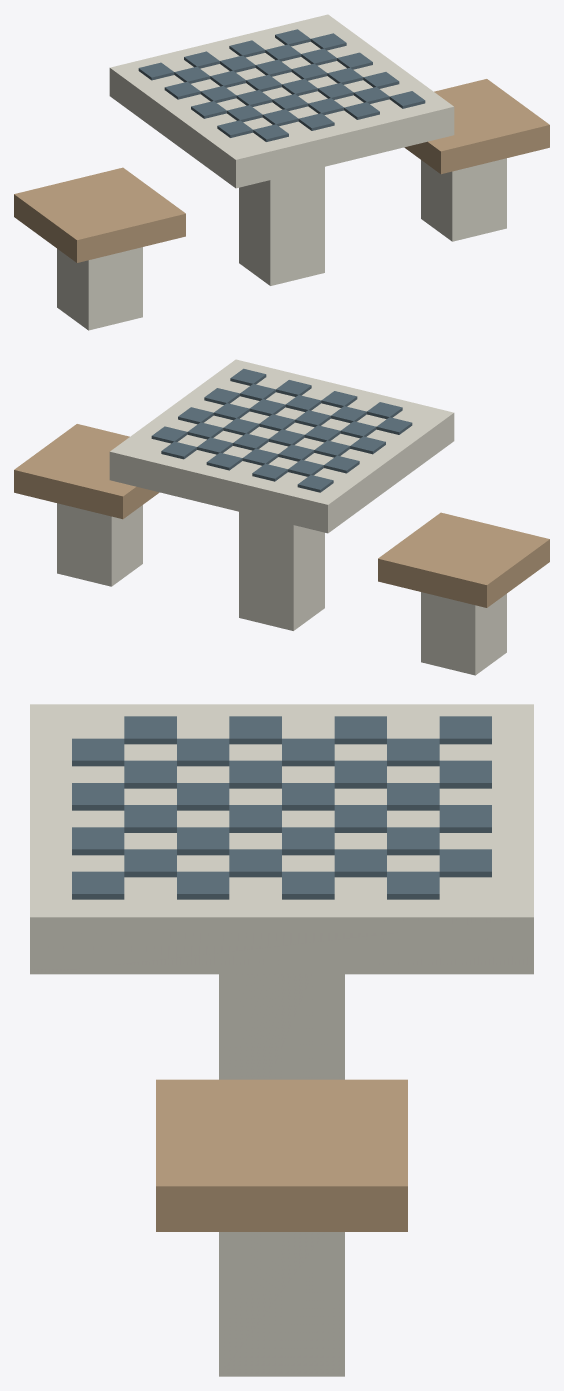
Rendered from Chess_Table.glb.
3 renders of one model, top to bottom at view 1: azimuth 30°, elevation 25°; view 2: azimuth 150°, elevation 25°; view 3: azimuth 270°, elevation 25°, orthographic. The views are drawn at different scales.
Visible parts, largest first — view 1: chess-table-concrete, chess-table-wood, chess-table-dark; view 2: chess-table-concrete, chess-table-wood, chess-table-dark; view 3: chess-table-concrete, chess-table-dark, chess-table-wood.
Part boxes in pixels (x1,y1,x2,y2): chess-table-concrete: (57,14,506,330); chess-table-wood: (14,79,549,262); chess-table-dark: (138,29,425,141); chess-table-concrete: (57,359,506,675); chess-table-wood: (14,424,549,607); chess-table-dark: (151,368,412,492); chess-table-concrete: (30,704,533,1376); chess-table-dark: (72,716,491,899); chess-table-wood: (156,1079,407,1231).
Size of the model in its own units: 2.6 by 0.965 by 1.2.
